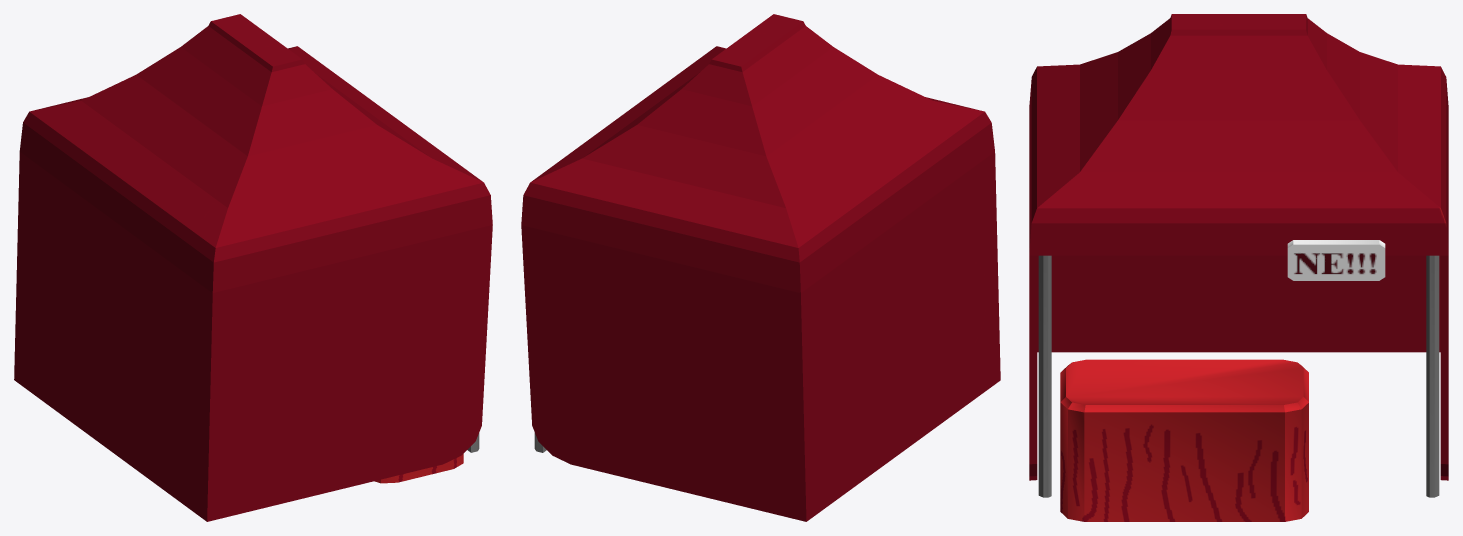
Rendered from stanek.fbx.
3 renders of one model, left to right at view 1: azimuth 30°, elevation 25°; view 2: azimuth 150°, elevation 25°; view 3: azimuth 270°, elevation 25°, orthographic. The views are drawn at different scales.
Visible parts, largest first — view 1: SM_Stan; view 2: SM_Stan; view 3: SM_Stan.
Boxes of the visible parts, x1,y1,x2,y2 form: SM_Stan: [14, 14, 492, 521]; SM_Stan: [521, 14, 1000, 521]; SM_Stan: [1029, 14, 1448, 521].
Size of the model in its own units: 326 by 286 by 369.
Materials: 1 (1 with a texture image).
